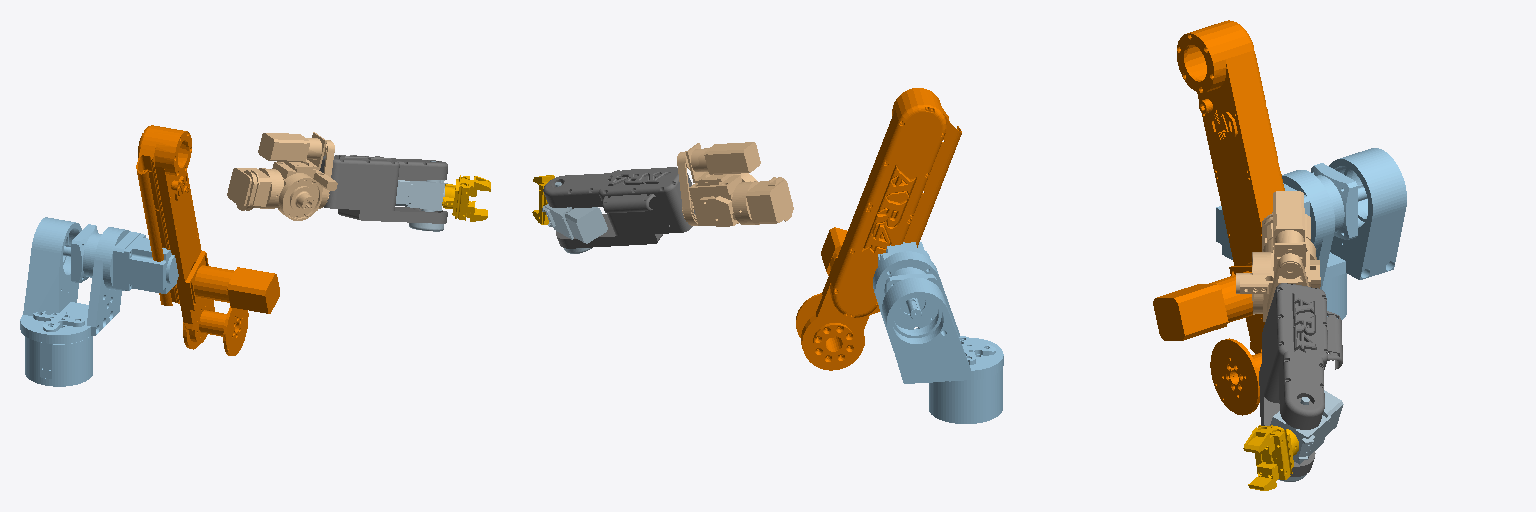
The robot description file, URDF, robot "annin_ar4":
<?xml version="1.0" ?>
<!-- Generated using onshape-to-robot -->
<!-- Onshape https://cad.onshape.com/documents/71a6e6ac5054656ec8ae7be3/w/15da3de6b39094e09f55dc5d/e/b69991727d685d56a05e7c46 -->
<robot name="annin_ar4">
  <!-- Link baseplate -->
  <link name="baseplate">
    <inertial>
      <origin xyz="0 0 0" rpy="0 0 0"/>
      <mass value="0"/>
      <inertia ixx="0" ixy="0" ixz="0" iyy="0" iyz="0" izz="0"/>
    </inertial>
    <!-- Part baseplate_parts -->
    <visual>
      <origin xyz="-0.0994665 0.0173301 0.0783025" rpy="0 -0 0"/>
      <geometry>
        <mesh filename="package://annin_ar4_description/meshes/merged/baseplate_visual.stl"/>
      </geometry>
      <material name="baseplate_parts_material">
        <color rgba="0.600346 0.770857 0.873164 1"/>
      </material>
    </visual>
  </link>
  <!-- Link ar4_mk4_j1_turret_housing_1 -->
  <link name="ar4_mk4_j1_turret_housing_1">
    <inertial>
      <origin xyz="-0.0463965 -0.0242033 -0.108439" rpy="0 0 0"/>
      <mass value="2.54104"/>
      <inertia ixx="0.011247" ixy="-0.00137444" ixz="-0.00253118" iyy="0.00796204" iyz="-0.00249889" izz="0.00908202"/>
    </inertial>
    <!-- Part ar4_mk4_j1_turret_housing_1_parts -->
    <visual>
      <origin xyz="-0.0463965 -0.0242033 -0.108439" rpy="3.14159 5.93e-10 0"/>
      <geometry>
        <mesh filename="package://annin_ar4_description/meshes/merged/ar4_mk4_j1_turret_housing_1_visual.stl"/>
      </geometry>
      <material name="ar4_mk4_j1_turret_housing_1_parts_material">
        <color rgba="0.657064 0.826274 0.9278 1"/>
      </material>
    </visual>
  </link>
  <!-- Link link_2 -->
  <link name="link_2">
    <inertial>
      <origin xyz="-0.00116151 0.132932 0.00571963" rpy="0 0 0"/>
      <mass value="0.825114"/>
      <inertia ixx="0.00889311" ixy="7.73405e-05" ixz="-3.25413e-05" iyy="0.00144092" iyz="0.00126456" izz="0.00802357"/>
    </inertial>
    <!-- Part link_2_parts -->
    <visual>
      <origin xyz="-0.00116151 0.132932 0.00571963" rpy="1.5708 0.0215588 1.71453"/>
      <geometry>
        <mesh filename="package://annin_ar4_description/meshes/merged/link_2_visual.stl"/>
      </geometry>
      <material name="link_2_parts_material">
        <color rgba="0.972549 0.529412 0.00392157 1"/>
      </material>
    </visual>
  </link>
  <!-- Link ar4_mk4_motor_17ls13_0404e_200h_c1_1 -->
  <link name="ar4_mk4_motor_17ls13_0404e_200h_c1_1">
    <inertial>
      <origin xyz="0.0194264 0.00361458 -0.0315536" rpy="0 0 0"/>
      <mass value="0.841792"/>
      <inertia ixx="0.00130781" ixy="-0.000129016" ixz="5.77817e-05" iyy="0.000832919" iyz="3.58347e-05" izz="0.00171936"/>
    </inertial>
    <!-- Part ar4_mk4_motor_17ls13_0404e_200h_c1_1_parts -->
    <visual>
      <origin xyz="0.0194264 0.00361458 -0.0315536" rpy="-1.5708 -0.0215588 -1.71453"/>
      <geometry>
        <mesh filename="package://annin_ar4_description/meshes/merged/ar4_mk4_motor_17ls13_0404e_200h_c1_1_visual.stl"/>
      </geometry>
      <material name="ar4_mk4_motor_17ls13_0404e_200h_c1_1_parts_material">
        <color rgba="0.92179 0.779841 0.611513 1"/>
      </material>
    </visual>
  </link>
  <!-- Link simplified_part -->
  <link name="simplified_part">
    <inertial>
      <origin xyz="-0.00122923 0.00242208 -0.083018" rpy="0 0 0"/>
      <mass value="0.712121"/>
      <inertia ixx="0.00228318" ixy="8.55878e-05" ixz="3.43363e-05" iyy="0.00200046" iyz="-0.000102494" izz="0.000725561"/>
    </inertial>
    <!-- Part simplified_part_parts -->
    <visual>
      <origin xyz="-0.00122923 0.00242208 -0.083018" rpy="-0.0772257 1.29826 1.49062"/>
      <geometry>
        <mesh filename="package://annin_ar4_description/meshes/merged/simplified_part_visual.stl"/>
      </geometry>
      <material name="simplified_part_parts_material">
        <color rgba="0.498039 0.498039 0.498039 1"/>
      </material>
    </visual>
  </link>
  <!-- Link ar4_mk4_14hs11_1004d_egs20_ar4_1 -->
  <link name="ar4_mk4_14hs11_1004d_egs20_ar4_1">
    <inertial>
      <origin xyz="-0.0118708 -0.00806779 0.0474159" rpy="0 0 0"/>
      <mass value="0.314103"/>
      <inertia ixx="0.000150078" ixy="-4.38397e-05" ixz="-1.52094e-05" iyy="0.000191501" iyz="-1.05792e-05" izz="0.000172846"/>
    </inertial>
    <!-- Part ar4_mk4_14hs11_1004d_egs20_ar4_1_parts -->
    <visual>
      <origin xyz="-0.0118708 -0.00806779 0.0474159" rpy="-2.89732 0.259201 0.0851574"/>
      <geometry>
        <mesh filename="package://annin_ar4_description/meshes/merged/ar4_mk4_14hs11_1004d_egs20_ar4_1_visual.stl"/>
      </geometry>
      <material name="ar4_mk4_14hs11_1004d_egs20_ar4_1_parts_material">
        <color rgba="0.69002 0.773489 0.820789 1"/>
      </material>
    </visual>
  </link>
  <!-- Link simplified_part_2 -->
  <link name="simplified_part_2">
    <inertial>
      <origin xyz="6.26549e-06 0.000241513 -0.0230231" rpy="0 0 0"/>
      <mass value="0.115892"/>
      <inertia ixx="2.78554e-05" ixy="-7.6839e-08" ixz="-1.941e-09" iyy="4.28172e-05" iyz="-5.34906e-07" izz="3.11918e-05"/>
    </inertial>
    <!-- Part simplified_part_2_parts -->
    <visual>
      <origin xyz="6.26549e-06 0.000241513 -0.0230231" rpy="1.37431 1.01468 -1.65908"/>
      <geometry>
        <mesh filename="package://annin_ar4_description/meshes/merged/simplified_part_2_visual.stl"/>
      </geometry>
      <material name="simplified_part_2_parts_material">
        <color rgba="0.980392 0.713725 0.00392157 1"/>
      </material>
    </visual>
  </link>
  <!-- Joint from ar4_mk4_14hs11_1004d_egs20_ar4_1 to simplified_part_2 -->
  <joint name="endeffector" type="revolute">
    <origin xyz="0.0158626 0.0104585 0.0433" rpy="1.5708 -1.15211 -0.987898"/>
    <parent link="ar4_mk4_14hs11_1004d_egs20_ar4_1"/>
    <child link="simplified_part_2"/>
    <axis xyz="0 0 1"/>
    <limit effort="10" velocity="10" lower="-3.141592653589793" upper="3.141592653589793"/>
  </joint>
  <!-- Joint from simplified_part to ar4_mk4_14hs11_1004d_egs20_ar4_1 -->
  <joint name="endeffector_mount" type="revolute">
    <origin xyz="-0.0100404 0.0428391 -0.172" rpy="1.34058 1.5708 0"/>
    <parent link="simplified_part"/>
    <child link="ar4_mk4_14hs11_1004d_egs20_ar4_1"/>
    <axis xyz="0 0 1"/>
    <limit effort="10" velocity="10" lower="-2.67729" upper="1.5115"/>
  </joint>
  <!-- Joint from ar4_mk4_motor_17ls13_0404e_200h_c1_1 to simplified_part -->
  <joint name="link3_to_end_effector_mount" type="revolute">
    <origin xyz="-0.0204372 -0.0463316 -0.0362" rpy="-1.98623 -1.5708 0"/>
    <parent link="ar4_mk4_motor_17ls13_0404e_200h_c1_1"/>
    <child link="simplified_part"/>
    <axis xyz="0 0 1"/>
    <limit effort="10" velocity="10" lower="-3.141592653589793" upper="3.141592653589793"/>
  </joint>
  <!-- Joint from link_2 to ar4_mk4_motor_17ls13_0404e_200h_c1_1 -->
  <joint name="link2_to_link3" type="revolute">
    <origin xyz="0 0.305 0.015" rpy="3.14159 -0 0"/>
    <parent link="link_2"/>
    <child link="ar4_mk4_motor_17ls13_0404e_200h_c1_1"/>
    <axis xyz="0 0 1"/>
    <limit effort="10" velocity="10" lower="-3.141592653589793" upper="3.141592653589793"/>
  </joint>
  <!-- Joint from ar4_mk4_j1_turret_housing_1 to link_2 -->
  <joint name="link1_to_link2" type="revolute">
    <origin xyz="-0.0630431 0.0518211 -0.143075" rpy="-1.5708 1.42706 3.12003"/>
    <parent link="ar4_mk4_j1_turret_housing_1"/>
    <child link="link_2"/>
    <axis xyz="0 0 1"/>
    <limit effort="10" velocity="10" lower="-3.141592653589793" upper="3.141592653589793"/>
  </joint>
  <!-- Joint from baseplate to ar4_mk4_j1_turret_housing_1 -->
  <joint name="base_to_link1" type="revolute">
    <origin xyz="0.0716069 0.0168825 0.0570797" rpy="-3.14159 5.93e-10 0"/>
    <parent link="baseplate"/>
    <child link="ar4_mk4_j1_turret_housing_1"/>
    <axis xyz="0 0 1"/>
    <limit effort="10" velocity="10" lower="-3.141592653589793" upper="3.141592653589793"/>
  </joint>
</robot>

--- What the picture shows (computed from the rendered views, not written in the file) ---
3 views of the same robot in one strip: view 1: azimuth 30°, elevation 25°; view 2: azimuth 150°, elevation 25°; view 3: azimuth 270°, elevation 25° (orthographic).
Model annin_ar4 with 7 links and 6 joints (6 revolute), rooted at baseplate, posed all joints at 0.
Visible links, largest first — view 1: ar4_mk4_j1_turret_housing_1, link_2, ar4_mk4_motor_17ls13_0404e_200h_c1_1, simplified_part, ar4_mk4_14hs11_1004d_egs20_ar4_1, simplified_part_2; view 2: link_2, ar4_mk4_j1_turret_housing_1, simplified_part, ar4_mk4_motor_17ls13_0404e_200h_c1_1, ar4_mk4_14hs11_1004d_egs20_ar4_1; view 3: link_2, ar4_mk4_j1_turret_housing_1, simplified_part, ar4_mk4_motor_17ls13_0404e_200h_c1_1, simplified_part_2, ar4_mk4_14hs11_1004d_egs20_ar4_1.
Boxes of the visible links, <box> form: ar4_mk4_j1_turret_housing_1: <box>20,217,178,386</box>; link_2: <box>136,125,279,355</box>; ar4_mk4_motor_17ls13_0404e_200h_c1_1: <box>227,132,337,220</box>; simplified_part: <box>319,155,447,223</box>; ar4_mk4_14hs11_1004d_egs20_ar4_1: <box>395,161,447,231</box>; simplified_part_2: <box>442,175,490,221</box>; link_2: <box>796,88,961,370</box>; ar4_mk4_j1_turret_housing_1: <box>873,242,1003,423</box>; simplified_part: <box>543,167,695,248</box>; ar4_mk4_motor_17ls13_0404e_200h_c1_1: <box>677,142,793,226</box>; ar4_mk4_14hs11_1004d_egs20_ar4_1: <box>542,182,607,253</box>; link_2: <box>1153,20,1284,415</box>; ar4_mk4_j1_turret_housing_1: <box>1216,148,1406,319</box>; simplified_part: <box>1259,283,1342,476</box>; ar4_mk4_motor_17ls13_0404e_200h_c1_1: <box>1236,191,1320,321</box>; simplified_part_2: <box>1243,425,1298,490</box>; ar4_mk4_14hs11_1004d_egs20_ar4_1: <box>1270,390,1343,481</box>.
Bounding box of the posed robot: 0.6701 × 0.2452 × 0.3544 m (x, y, z).
Meshes: 7 distinct files referenced, 6 mesh visuals loaded (6 binary STL); not drawn: 1 (reference not matched to a file when rendering).
